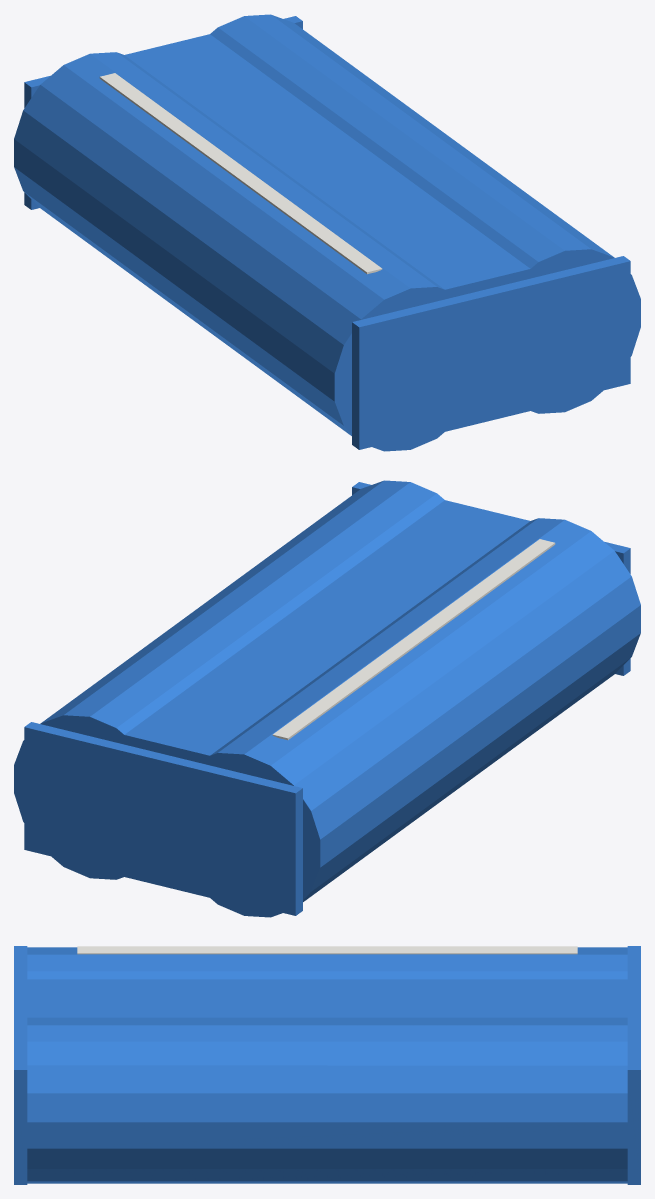
File: battery.glb
3 renders of one model, top to bottom at view 1: azimuth 30°, elevation 25°; view 2: azimuth 150°, elevation 25°; view 3: azimuth 270°, elevation 25°, orthographic. The views are drawn at different scales.
Parts seen in each view (by area): view 1: battery_pack, battery_shine; view 2: battery_pack, battery_shine; view 3: battery_pack, battery_shine.
Part boxes in pixels (<box>): battery_pack: <box>14,14,640,451</box>; battery_shine: <box>99,73,382,274</box>; battery_pack: <box>14,480,640,917</box>; battery_shine: <box>272,539,555,740</box>; battery_pack: <box>14,946,640,1184</box>; battery_shine: <box>77,946,577,954</box>.
Size of the model in its own units: 0.0198 by 0.01 by 0.0376.
